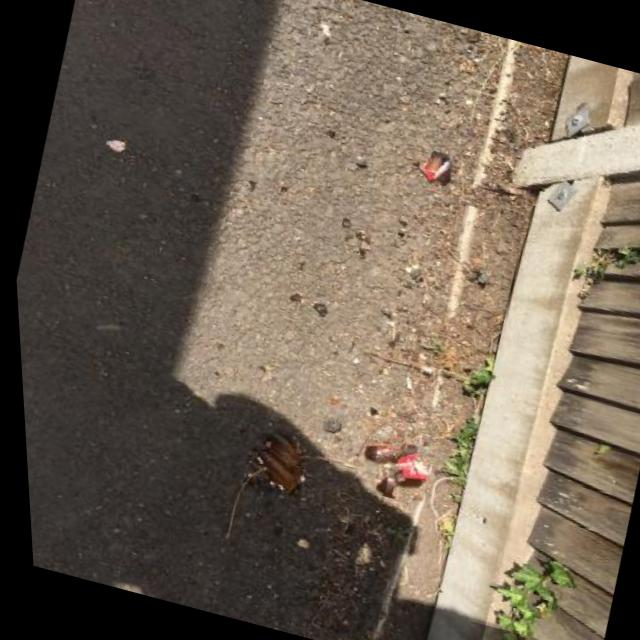glass: (353, 432, 437, 507), (239, 422, 318, 500), (415, 146, 460, 188)
